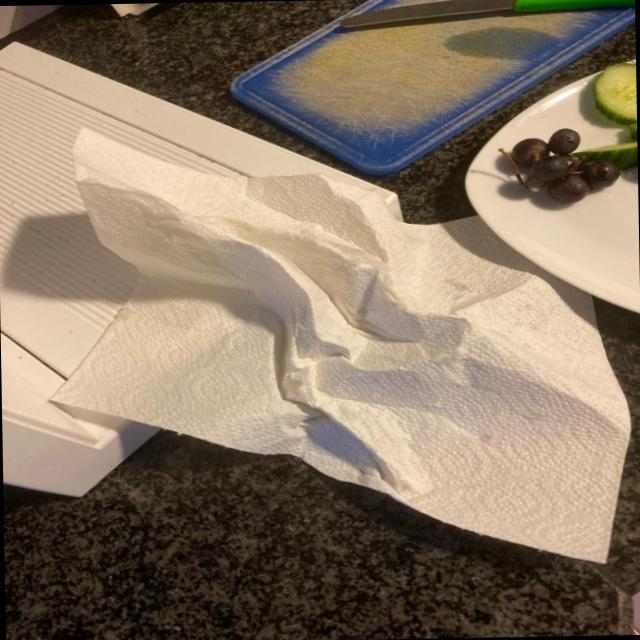organic waste: (46, 114, 634, 576)
